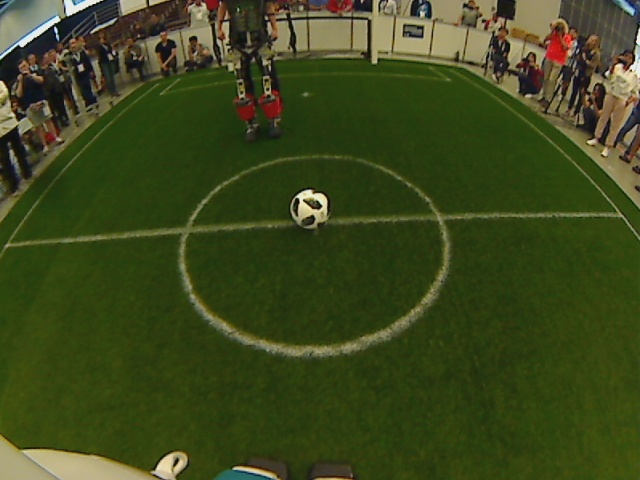ball: (287, 185, 335, 233)
